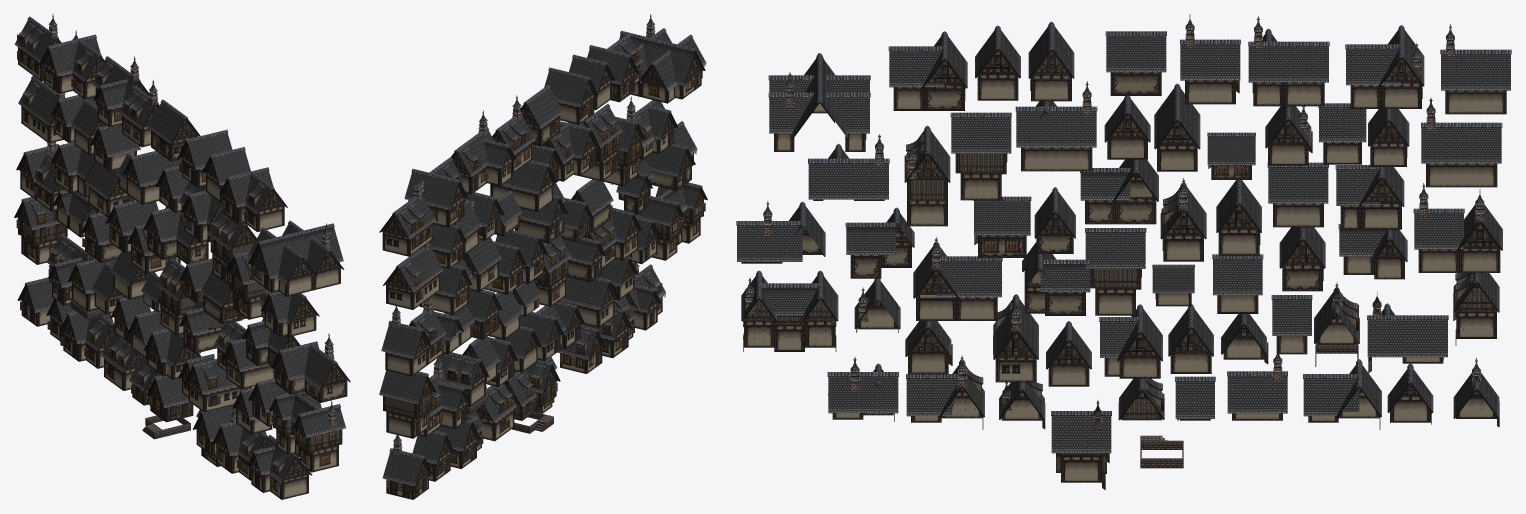
File: MbdMD_Co_T_Snow_M_B_Build_03.FBX
3 renders of one model, left to right at view 1: azimuth 30°, elevation 25°; view 2: azimuth 150°, elevation 25°; view 3: azimuth 270°, elevation 25°, orthographic. The views are drawn at different scales.
Visible parts, largest first — view 1: MbdMD_Co_T_Snow_S_Pub, MbdMD_Co_T_Snow_S_Susanna, MbdMD_Co_T_Snow_S_TumbleDown, MbdMD_Co_T_Snow_M_B_Build_06, MbdMD_Co_T_Snow_M_A_Pub, MbdMD_Co_T_Snow_S_GeneralShop, MbdMD_Co_T_Snow_M_A_HidingPlace, MbdMD_Co_T_Snow_L_A_ItemShop, MbdMD_Co_T_Snow_L_A_Build_04, MbdMD_Co_T_Snow_M_A_WeponShop, MbdMD_Co_T_Snow_M_A_Build_18, MbdMD_Co_T_Snow_S_Inn (+46 smaller); view 2: MbdMD_Co_T_Snow_S_Pub, MbdMD_Co_T_Snow_M_A_Build_13, MbdMD_Co_T_Snow_S_Susanna, MbdMD_Co_T_Snow_L_A_ItemShop, MbdMD_Co_T_Snow_M_A_WeponShop, MbdMD_Co_T_Snow_M_A_Build_19, MbdMD_Co_T_Snow_M_A_Pub, MbdMD_Co_T_Snow_M_B_Build_08, MbdMD_Co_T_Snow_S_TumbleDown, MbdMD_Co_T_Snow_M_A_Inn, MbdMD_Co_T_Snow_M_B_Build_02, MbdMD_Co_T_Snow_L_A_Build_01 (+47 smaller); view 3: MbdMD_Co_T_Snow_S_Susanna, MbdMD_Co_T_Snow_S_Pub, MbdMD_Co_T_Snow_M_A_Build_13, MbdMD_Co_T_Snow_M_A_Build_18, MbdMD_Co_T_Snow_M_A_WeponShop, MbdMD_Co_T_Snow_M_A_Inn, MbdMD_Co_T_Snow_M_A_Build_19, MbdMD_Co_T_Snow_M_A_Pub, MbdMD_Co_T_Snow_M_B_Build_06, MbdMD_Co_T_Snow_M_A_House_C, MbdMD_Co_T_Snow_M_A_Build_24, MbdMD_Co_T_Snow_M_B_Build_08 (+48 smaller).
Part boxes in pixels (bbox=[...]): MbdMD_Co_T_Snow_S_Pub: bbox=[247, 220, 344, 296]; MbdMD_Co_T_Snow_S_Susanna: bbox=[269, 391, 345, 472]; MbdMD_Co_T_Snow_S_TumbleDown: bbox=[271, 333, 350, 402]; MbdMD_Co_T_Snow_M_B_Build_06: bbox=[219, 167, 287, 231]; MbdMD_Co_T_Snow_M_A_Pub: bbox=[39, 30, 104, 99]; MbdMD_Co_T_Snow_S_GeneralShop: bbox=[247, 435, 311, 499]; MbdMD_Co_T_Snow_M_A_HidingPlace: bbox=[143, 208, 208, 264]; MbdMD_Co_T_Snow_L_A_ItemShop: bbox=[14, 197, 67, 264]; MbdMD_Co_T_Snow_L_A_Build_04: bbox=[59, 311, 114, 368]; MbdMD_Co_T_Snow_M_A_WeponShop: bbox=[92, 56, 149, 127]; MbdMD_Co_T_Snow_M_A_Build_18: bbox=[214, 318, 275, 389]; MbdMD_Co_T_Snow_S_Inn: bbox=[258, 288, 319, 336]; MbdMD_Co_T_Snow_S_Pub: bbox=[619, 14, 706, 103]; MbdMD_Co_T_Snow_M_A_Build_13: bbox=[381, 297, 446, 376]; MbdMD_Co_T_Snow_S_Susanna: bbox=[637, 182, 707, 260]; MbdMD_Co_T_Snow_L_A_ItemShop: bbox=[379, 370, 435, 438]; MbdMD_Co_T_Snow_M_A_WeponShop: bbox=[451, 110, 515, 194]; MbdMD_Co_T_Snow_M_A_Build_19: bbox=[383, 242, 443, 309]; MbdMD_Co_T_Snow_M_A_Pub: bbox=[404, 157, 467, 227]; MbdMD_Co_T_Snow_M_B_Build_08: bbox=[379, 175, 435, 256]; MbdMD_Co_T_Snow_S_TumbleDown: bbox=[644, 121, 697, 190]; MbdMD_Co_T_Snow_M_A_Inn: bbox=[542, 121, 599, 181]; MbdMD_Co_T_Snow_M_B_Build_02: bbox=[490, 160, 556, 211]; MbdMD_Co_T_Snow_L_A_Build_01: bbox=[382, 435, 432, 499]; MbdMD_Co_T_Snow_S_Susanna: bbox=[741, 270, 838, 351]; MbdMD_Co_T_Snow_S_Pub: bbox=[768, 53, 870, 151]; MbdMD_Co_T_Snow_M_A_Build_13: bbox=[1413, 183, 1502, 272]; MbdMD_Co_T_Snow_M_A_Build_18: bbox=[913, 237, 1002, 320]; MbdMD_Co_T_Snow_M_A_WeponShop: bbox=[1248, 16, 1329, 106]; MbdMD_Co_T_Snow_M_A_Inn: bbox=[1015, 81, 1097, 171]; MbdMD_Co_T_Snow_M_A_Build_19: bbox=[1421, 97, 1502, 187]; MbdMD_Co_T_Snow_M_A_Pub: bbox=[1345, 25, 1424, 108]; MbdMD_Co_T_Snow_M_B_Build_06: bbox=[888, 31, 967, 110]; MbdMD_Co_T_Snow_M_A_House_C: bbox=[950, 112, 1011, 200]; MbdMD_Co_T_Snow_M_A_Build_24: bbox=[1085, 228, 1146, 315]; MbdMD_Co_T_Snow_M_B_Build_08: bbox=[1440, 24, 1511, 114].
Bounding box in the file's own units: 1182 × 5004 × 7602.
